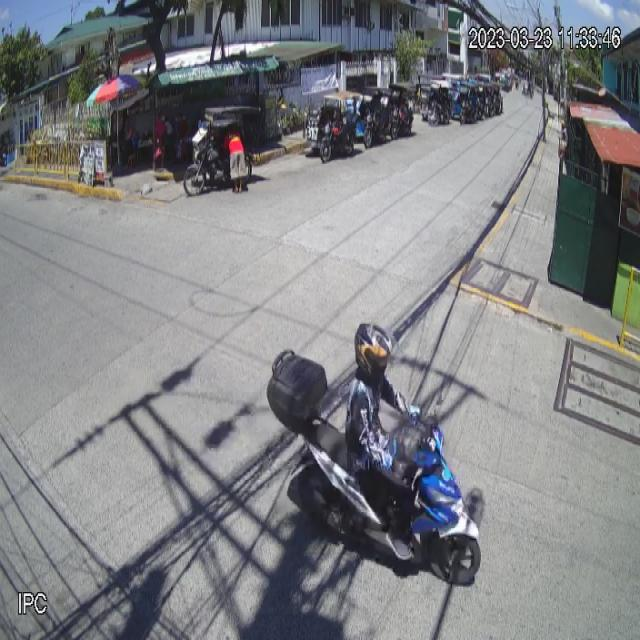Motorcycle: (263, 348, 481, 581)
